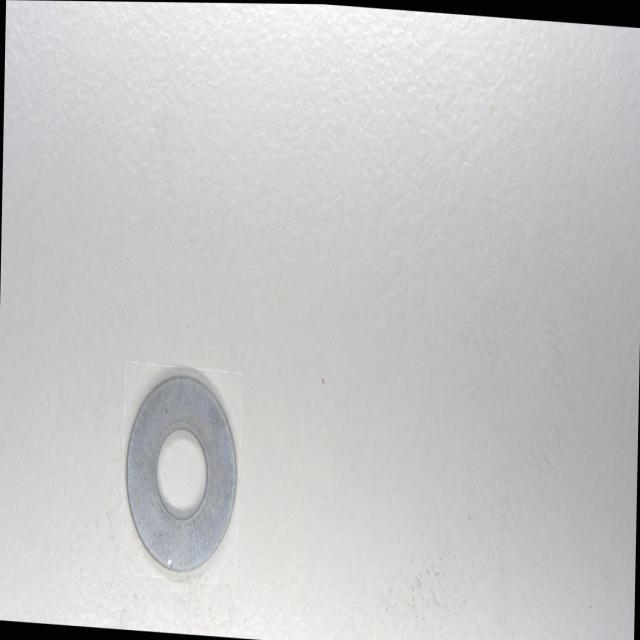washer: (123, 368, 240, 578)
